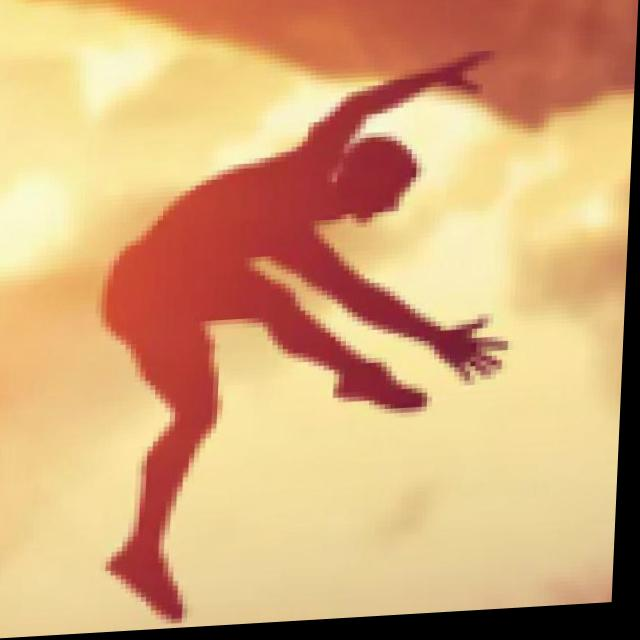fall: (81, 62, 519, 635)
